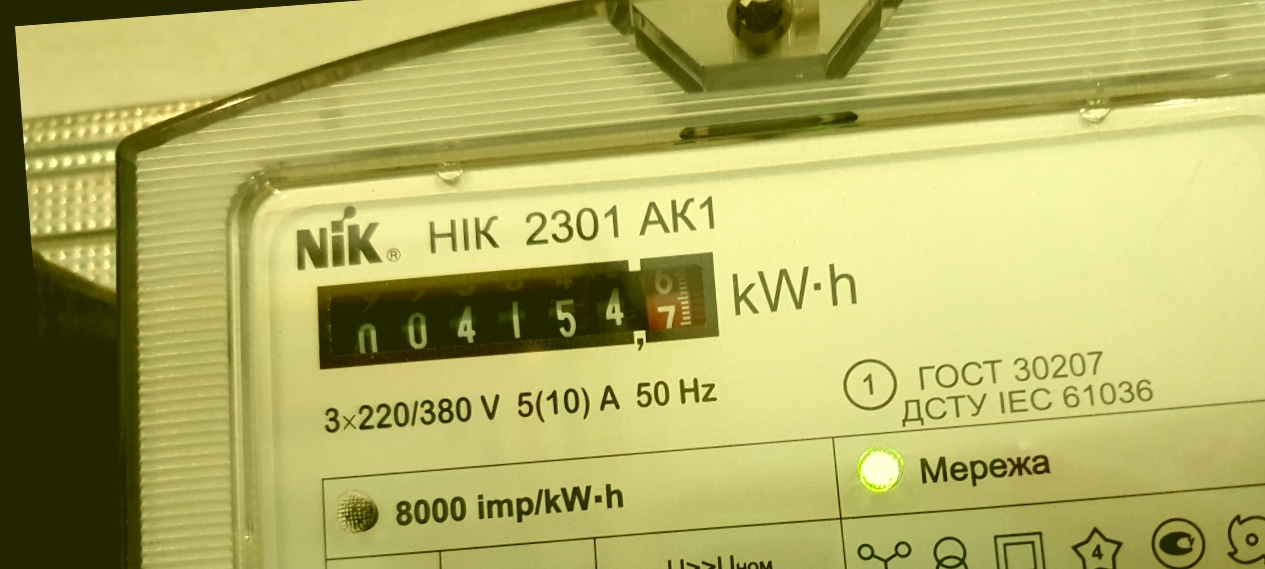0: (403, 308, 429, 351), (354, 318, 379, 354)
1: (507, 298, 523, 340)
4: (452, 303, 478, 346), (601, 283, 625, 328)
5: (552, 293, 579, 339)
6: (651, 265, 675, 296)
7: (654, 301, 677, 331)
screen: (296, 236, 737, 384)
